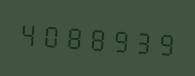eight: (63, 17, 85, 55), (86, 19, 108, 56)
four: (17, 14, 39, 51)
nine: (109, 20, 131, 58), (155, 24, 177, 61)
three: (132, 22, 154, 59)
zero: (40, 16, 62, 53)
